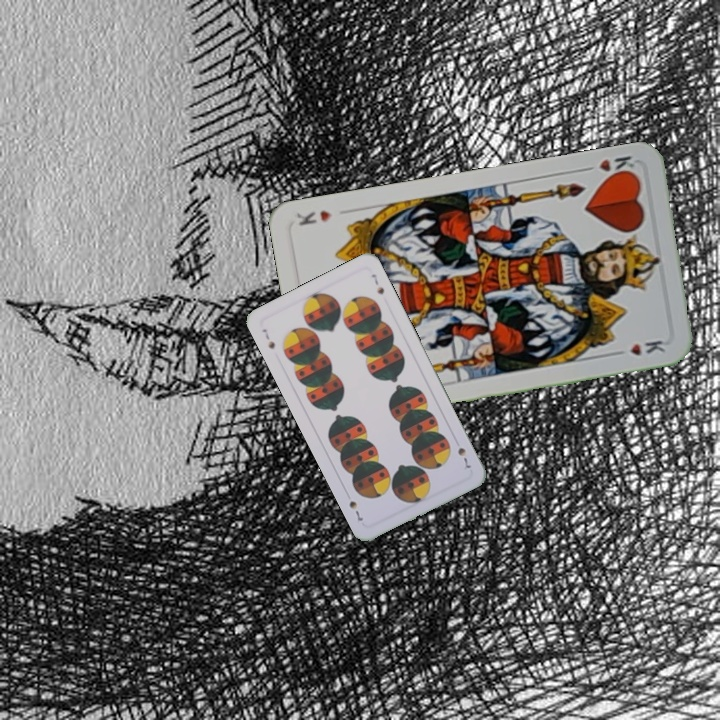HK: (579, 151, 637, 182)
S7: (454, 443, 474, 471), (258, 325, 278, 351)
